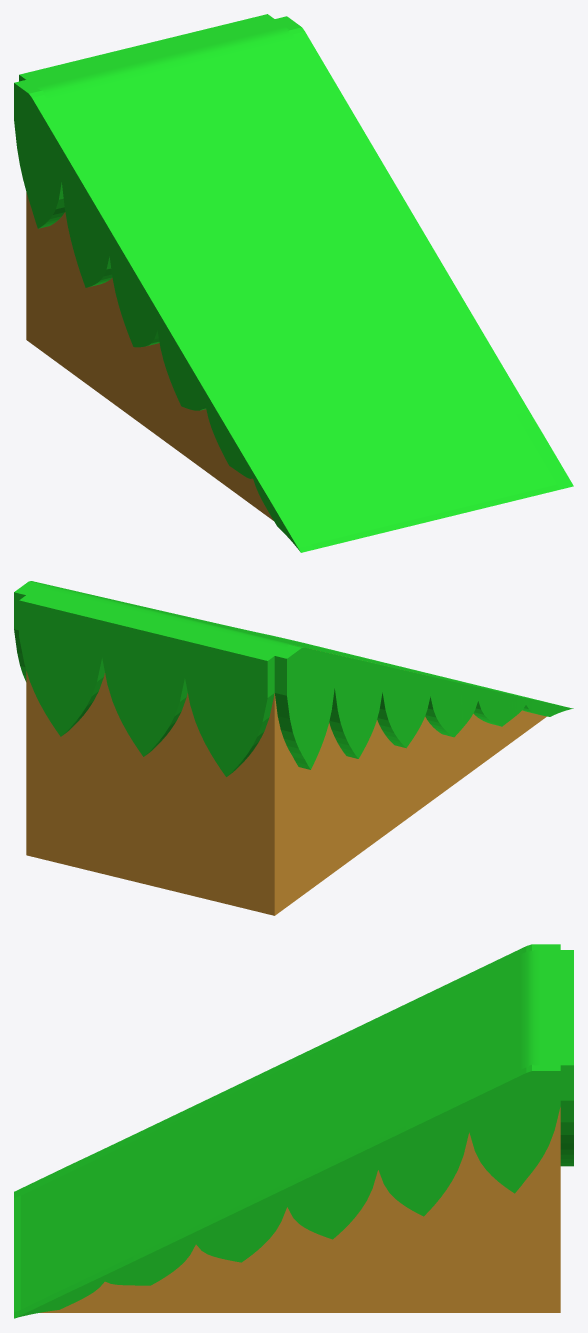
The model's file is Slope.fbx.
3 renders of one model, top to bottom at view 1: azimuth 30°, elevation 25°; view 2: azimuth 150°, elevation 25°; view 3: azimuth 270°, elevation 25°, orthographic. The views are drawn at different scales.
Parts seen in each view (by area): view 1: Dirtblock.001; view 2: Dirtblock.001; view 3: Dirtblock.001.
Boxes of the visible parts, x1,y1,x2,y2 form: Dirtblock.001: [14, 14, 573, 552]; Dirtblock.001: [14, 581, 573, 915]; Dirtblock.001: [14, 944, 573, 1318].
Bounding box in the file's own units: 110 × 100 × 205.
